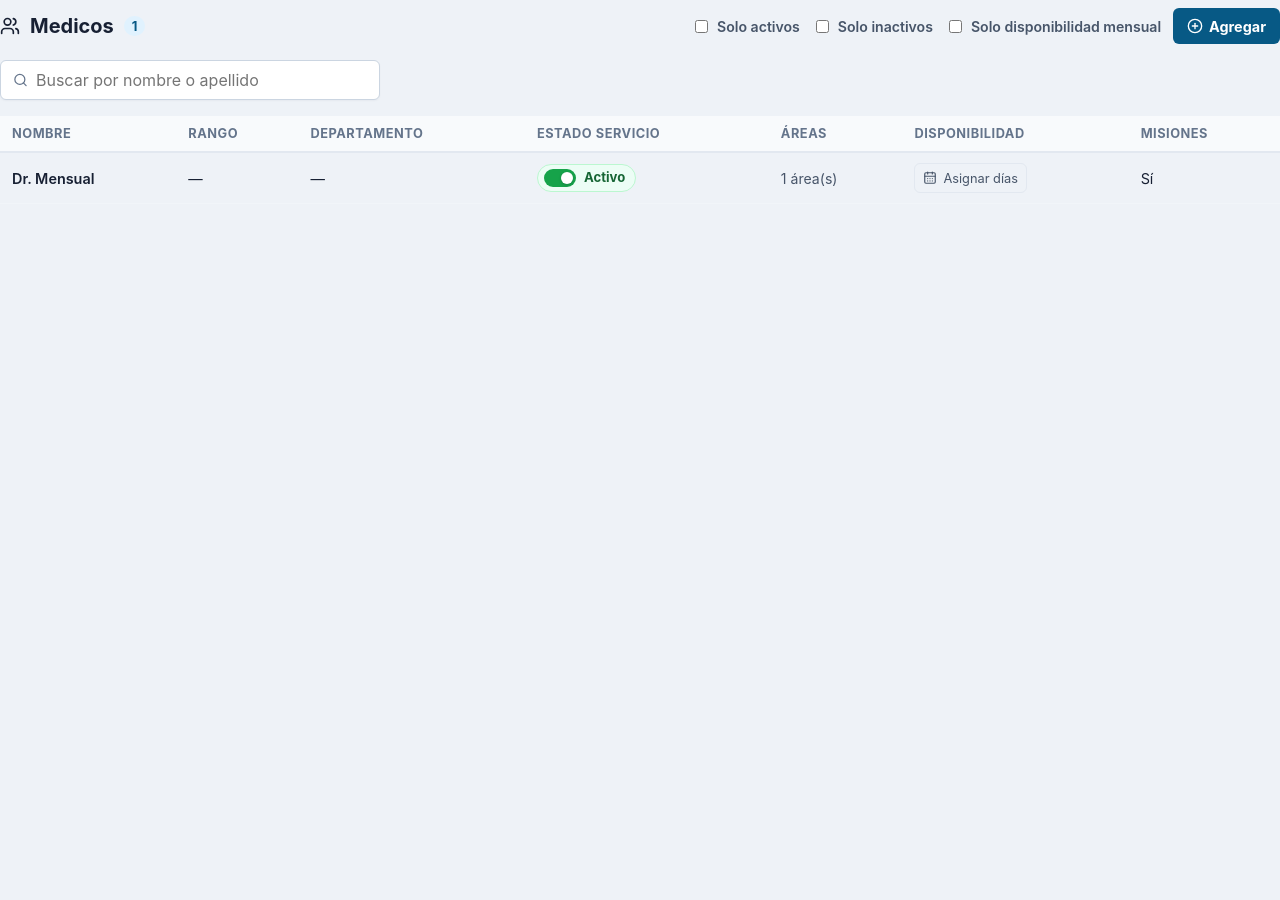
DoctorList › Asignar días reabre con los días ya guardados del mes actual
The image size is (1280, 900).
Click the button "Asignar días". click: (971, 178)
box: [914,163,1027,193]
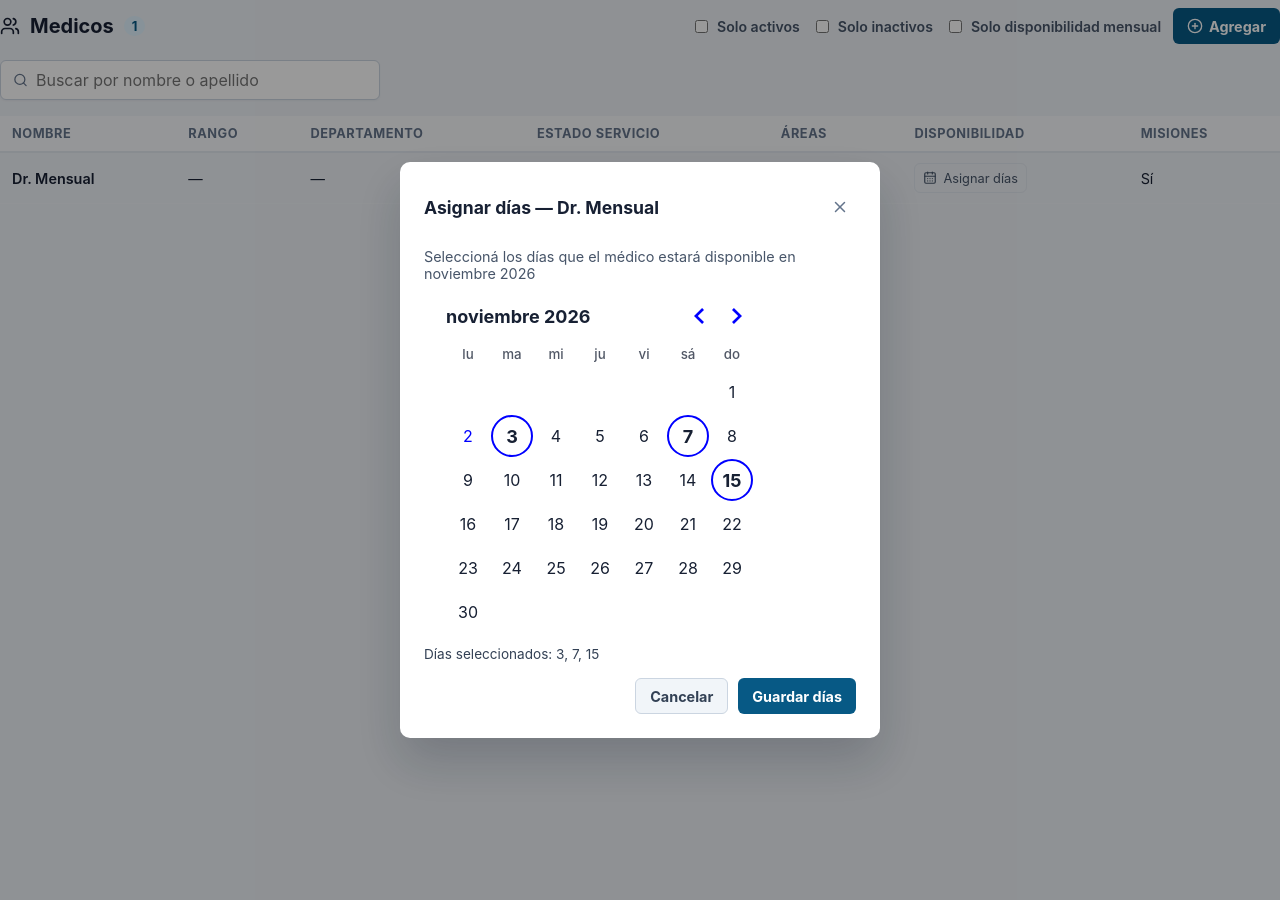
Result: the text "Días seleccionados: 3, 7, 15" is shown at [424,646,599,662]
